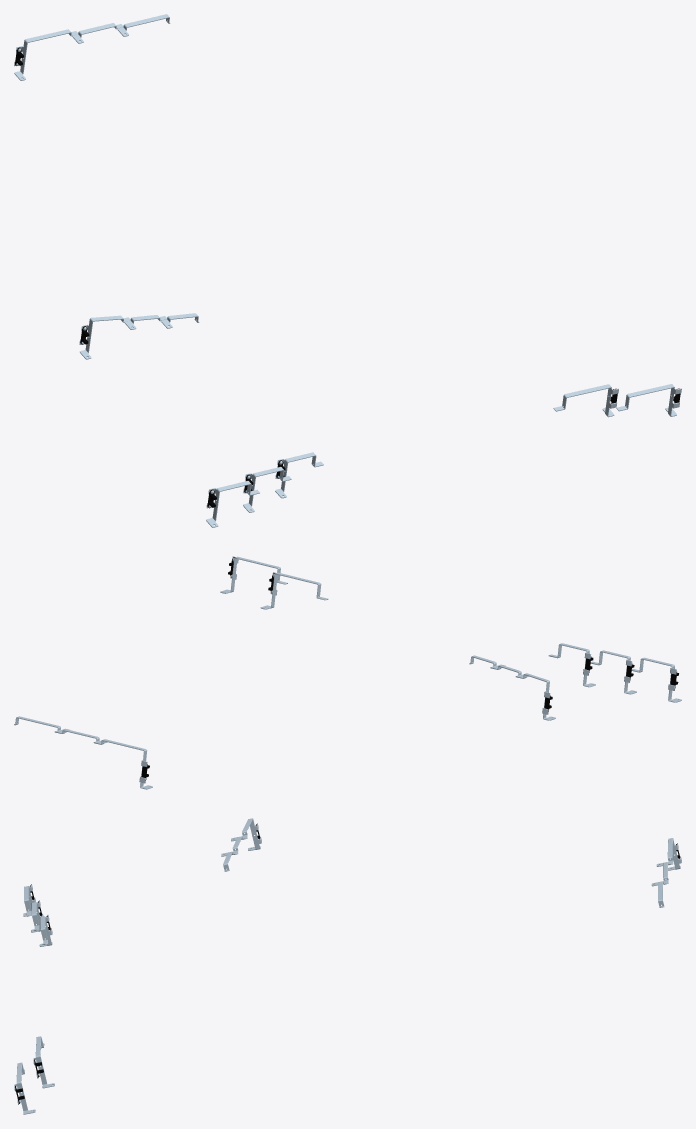
Rendered from stand for lamp.fbx.
The picture shows the model from 3 angles, top to bottom: view 1: azimuth 30°, elevation 25°; view 2: azimuth 150°, elevation 25°; view 3: azimuth 270°, elevation 25°; orthographic projection. The views are drawn at different scales.
Parts seen in each view (by area): view 1: Spinner - Capcom Bracket.007, Spinner - Capcom Bracket.006; view 2: Spinner - Capcom Bracket.007, Spinner - Capcom Bracket.006, Spinner - Capcom Bracket.005, Spinner - Capcom Bracket.004, Spinner - Capcom Bracket.001, Spinner - Capcom Bracket.003, Spinner - Capcom Bracket.002; view 3: Spinner - Capcom Bracket.007, Spinner - Capcom Bracket.006.
Boxes of the visible parts, box(x1,y1,x2,y2) form: Spinner - Capcom Bracket.007: box(14, 14, 170, 80); Spinner - Capcom Bracket.006: box(79, 313, 199, 359); Spinner - Capcom Bracket.007: box(14, 716, 152, 789); Spinner - Capcom Bracket.006: box(469, 655, 555, 720); Spinner - Capcom Bracket.005: box(260, 572, 328, 609); Spinner - Capcom Bracket.004: box(220, 556, 287, 593); Spinner - Capcom Bracket.001: box(631, 657, 681, 702); Spinner - Capcom Bracket.003: box(548, 643, 595, 687); Spinner - Capcom Bracket.002: box(590, 650, 636, 694); Spinner - Capcom Bracket.007: box(651, 838, 681, 907); Spinner - Capcom Bracket.006: box(221, 818, 261, 871).
Bounding box in the file's own units: 85.96 × 31.05 × 121.
